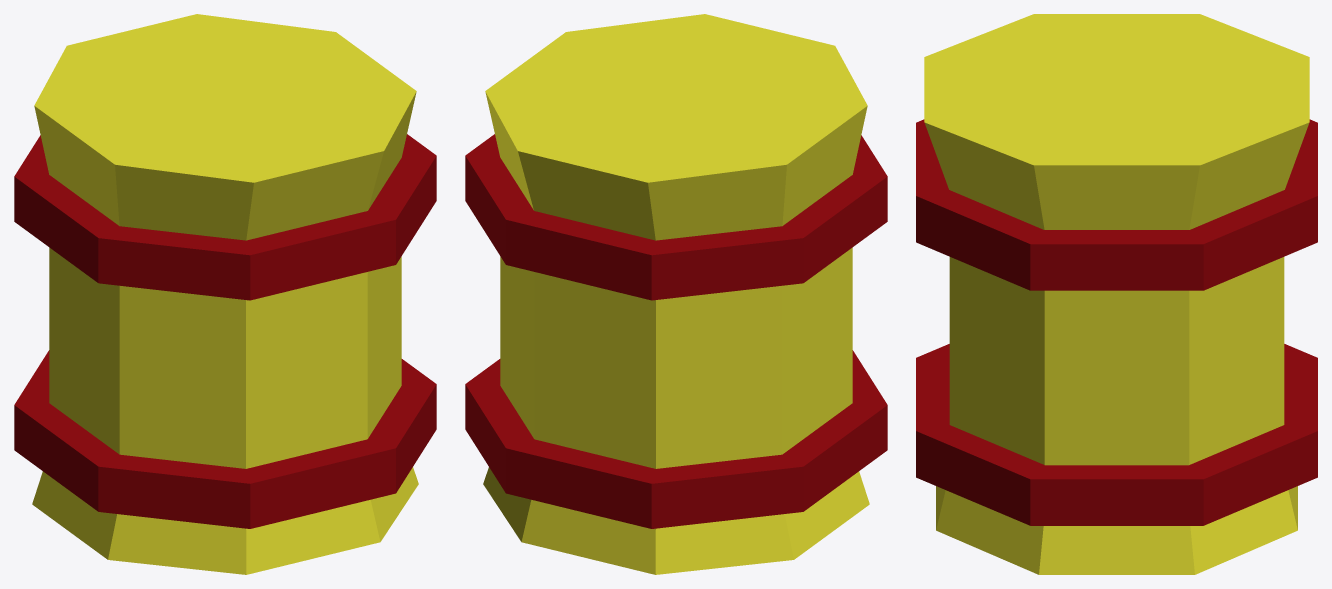
The model's file is hay.fbx.
3 views of the same model, side by side, from view 1: azimuth 30°, elevation 25°; view 2: azimuth 150°, elevation 25°; view 3: azimuth 270°, elevation 25° (orthographic). The views are drawn at different scales.
Parts seen in each view (by area): view 1: Cube, Cube.002, Cube.003; view 2: Cube, Cube.002, Cube.003; view 3: Cube, Cube.002, Cube.003.
Boxes of the visible parts, <box> form: Cube: <box>32,14,418,574</box>; Cube.002: <box>14,350,436,528</box>; Cube.003: <box>14,134,436,300</box>; Cube: <box>483,14,869,574</box>; Cube.002: <box>465,350,887,528</box>; Cube.003: <box>465,134,887,300</box>; Cube: <box>924,14,1309,574</box>; Cube.002: <box>916,344,1317,525</box>; Cube.003: <box>916,119,1317,290</box>.
Bounding box in the file's own units: 240 × 268 × 240.
